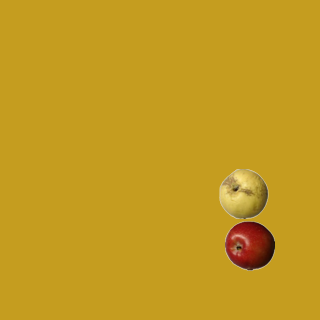Apple Braeburn: (224, 220, 274, 270)
Apple Golden 1: (218, 168, 268, 218)
